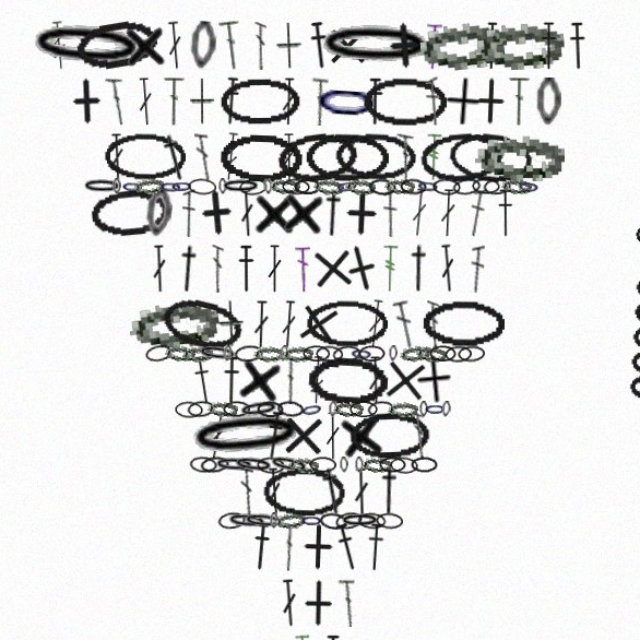chain: (197, 381, 310, 434), (51, 25, 164, 77), (316, 27, 427, 74), (172, 276, 255, 336), (144, 279, 231, 333), (408, 24, 494, 77), (94, 23, 175, 78), (279, 126, 359, 179), (437, 127, 518, 179), (461, 26, 546, 75), (411, 128, 491, 177), (109, 179, 186, 229), (308, 333, 384, 381), (463, 131, 545, 175), (228, 130, 305, 176), (334, 129, 409, 176), (268, 436, 344, 482), (347, 385, 423, 431), (307, 130, 384, 175), (360, 79, 437, 124), (414, 283, 490, 328), (308, 283, 383, 328), (123, 130, 198, 175), (229, 80, 304, 124), (314, 78, 377, 125), (160, 181, 187, 227), (201, 28, 227, 73), (519, 80, 542, 124), (273, 424, 312, 445), (241, 425, 279, 444), (246, 374, 284, 393), (208, 323, 246, 342), (235, 477, 273, 495), (250, 477, 288, 495), (224, 426, 261, 443), (279, 476, 309, 495), (393, 323, 423, 342), (339, 478, 376, 493), (103, 172, 140, 187), (230, 172, 267, 187), (150, 170, 179, 189), (334, 476, 361, 495), (160, 323, 187, 342), (332, 324, 359, 342), (442, 171, 469, 189), (320, 477, 346, 495), (211, 426, 238, 443), (242, 324, 269, 341), (292, 427, 320, 443), (383, 376, 411, 392), (195, 325, 223, 341), (260, 325, 288, 341), (287, 325, 315, 341), (409, 325, 437, 341), (315, 172, 343, 188), (344, 172, 372, 188), (227, 477, 253, 494), (201, 426, 227, 443), (199, 375, 225, 392), (281, 375, 307, 392), (364, 375, 390, 392), (470, 171, 496, 188), (355, 478, 382, 494), (359, 427, 387, 442), (218, 376, 246, 391), (333, 376, 361, 391), (179, 325, 207, 340), (275, 172, 303, 187), (380, 172, 408, 187), (487, 172, 515, 187), (263, 427, 289, 443), (385, 427, 411, 443), (188, 376, 214, 392), (200, 172, 226, 188), (247, 172, 273, 188), (286, 172, 312, 188), (365, 172, 391, 188), (424, 172, 450, 188), (302, 375, 325, 393), (372, 478, 397, 494), (317, 325, 342, 341), (435, 325, 460, 341), (447, 325, 472, 341), (394, 172, 419, 188), (348, 376, 374, 391), (460, 172, 486, 187), (311, 427, 336, 442), (375, 427, 400, 442), (404, 427, 429, 442), (232, 376, 257, 391), (263, 376, 288, 391), (305, 325, 330, 340), (356, 325, 381, 340), (421, 325, 446, 340), (297, 172, 322, 187), (335, 171, 357, 188), (409, 171, 431, 188), (348, 325, 370, 341), (501, 172, 523, 188), (139, 172, 160, 188), (174, 172, 195, 188), (274, 631, 311, 640), (303, 478, 324, 493), (416, 376, 437, 391), (184, 172, 205, 187), (293, 629, 320, 640), (304, 630, 330, 640), (283, 324, 293, 340), (432, 376, 441, 391), (232, 325, 241, 340), (269, 172, 278, 187), (275, 478, 283, 493), (339, 427, 347, 442), (353, 427, 361, 442), (329, 376, 337, 391), (412, 376, 420, 391), (384, 325, 392, 340), (131, 172, 139, 187), (228, 172, 236, 187), (330, 631, 338, 640)
double: (387, 283, 411, 329), (228, 28, 252, 73), (216, 385, 238, 430), (124, 79, 146, 124), (362, 283, 382, 328), (283, 487, 302, 532), (178, 80, 197, 124), (494, 80, 513, 124), (429, 232, 447, 277), (403, 181, 421, 226), (456, 181, 474, 226), (179, 28, 197, 73), (284, 539, 302, 583), (337, 539, 355, 583), (284, 335, 302, 379), (152, 80, 170, 124), (311, 80, 329, 124), (271, 437, 288, 481), (284, 284, 301, 328), (417, 79, 433, 124), (351, 437, 367, 481), (364, 335, 380, 379), (259, 284, 275, 328), (166, 233, 182, 277), (246, 182, 262, 226), (430, 182, 446, 226), (127, 131, 143, 175), (206, 131, 222, 175), (391, 131, 407, 175), (417, 29, 433, 73), (470, 29, 486, 73), (325, 386, 340, 430), (272, 233, 287, 277), (298, 233, 313, 277), (285, 131, 300, 175), (285, 80, 300, 124), (405, 386, 419, 430), (458, 233, 472, 277), (379, 182, 392, 226), (248, 437, 260, 481), (419, 284, 431, 328), (221, 233, 233, 277), (195, 182, 207, 226), (261, 29, 272, 73)
enseble_chain: (600, 259, 640, 381), (1, 275, 26, 365)
half_double: (171, 129, 205, 177), (317, 435, 348, 482), (186, 232, 215, 278), (319, 181, 347, 227), (332, 487, 359, 533), (371, 436, 398, 481), (398, 232, 425, 277), (202, 334, 225, 380), (268, 385, 291, 430), (309, 28, 331, 73), (257, 487, 277, 532), (230, 79, 250, 124), (362, 488, 381, 532), (231, 335, 249, 379), (548, 29, 566, 73), (324, 590, 341, 634), (245, 233, 262, 277), (482, 182, 499, 226), (363, 80, 380, 124), (522, 29, 539, 73)
noise: (607, 213, 628, 234), (0, 184, 17, 202), (620, 312, 640, 323)
single: (332, 228, 385, 281), (294, 280, 345, 331), (375, 333, 423, 381), (243, 332, 290, 381), (336, 383, 382, 432), (309, 231, 356, 278), (203, 180, 250, 227), (375, 27, 422, 74), (284, 180, 328, 227), (297, 487, 342, 532), (283, 385, 328, 430), (336, 181, 381, 226), (85, 79, 130, 124), (455, 79, 500, 124), (297, 539, 341, 583), (324, 29, 368, 73), (140, 28, 182, 73), (259, 182, 300, 226), (406, 333, 444, 380), (433, 79, 470, 125), (228, 283, 252, 328), (281, 29, 305, 73), (202, 80, 225, 124)
treble: (230, 130, 249, 175), (73, 28, 91, 73), (297, 590, 315, 634), (310, 335, 327, 379), (377, 233, 393, 277), (417, 131, 433, 175)
